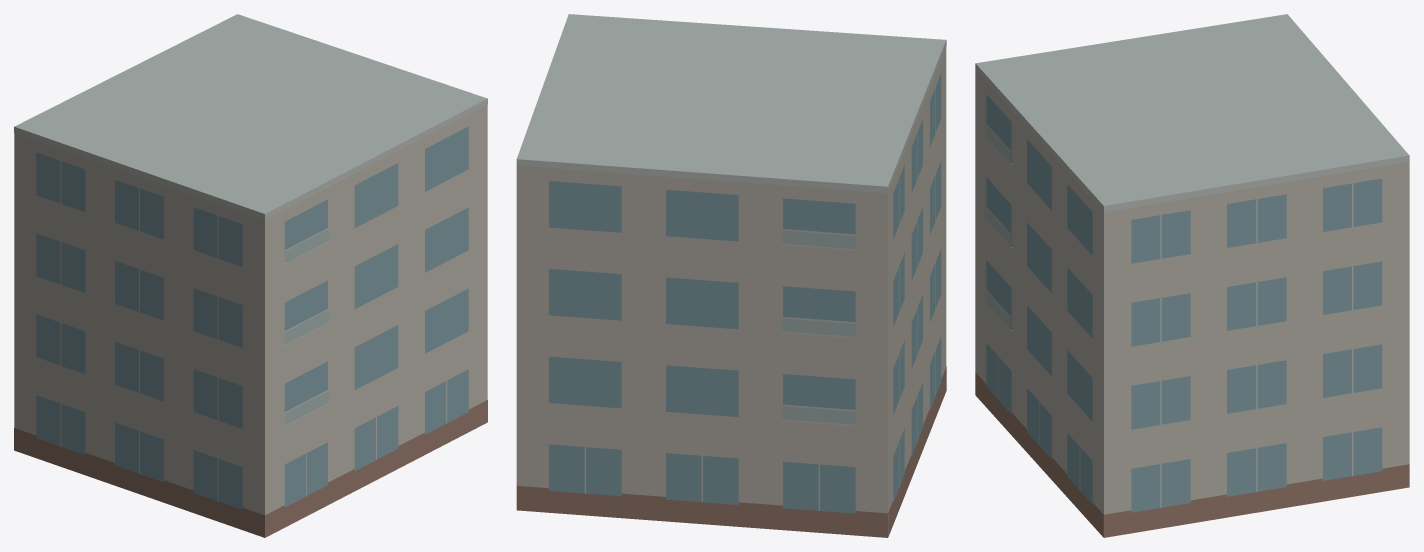
Rendered from survey-upis-32865625.glb.
3 views of the same model, side by side, from view 1: azimuth 30°, elevation 25°; view 2: azimuth 150°, elevation 25°; view 3: azimuth 270°, elevation 25° (orthographic). The views are drawn at different scales.
Parts seen in each view (by area): view 1: survey-upis-32865625.tmp; view 2: survey-upis-32865625.tmp; view 3: survey-upis-32865625.tmp.
Boxes of the visible parts, x1,y1,x2,y2 form: survey-upis-32865625.tmp: (14,14,487,537); survey-upis-32865625.tmp: (516,14,946,537); survey-upis-32865625.tmp: (975,14,1409,537).
Size of the model in its own units: 16.27 by 13.1 by 15.54.
